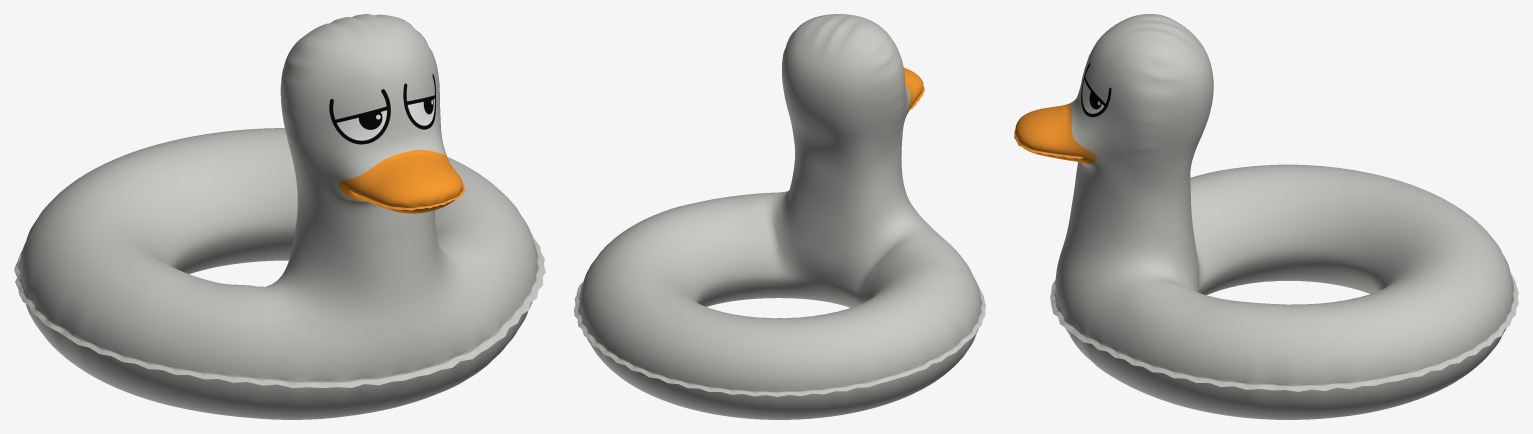
Rendered from GooseForWeb.gltf.
3 views of the same model, side by side, from view 1: azimuth 30°, elevation 25°; view 2: azimuth 150°, elevation 25°; view 3: azimuth 270°, elevation 25° (orthographic). The views are drawn at different scales.
Visible parts, largest first — view 1: Duck, Duck.001; view 2: Duck; view 3: Duck, Duck.001.
Boxes of the visible parts, box(x1,y1,x2,y2) form: Duck: box(14, 14, 545, 419); Duck.001: box(329, 74, 435, 144); Duck: box(574, 14, 985, 419); Duck: box(1014, 14, 1518, 419); Duck.001: box(1081, 55, 1111, 117).
Size of the model in its own units: 4.42 by 3.37 by 4.8.
Materials: 3 (1 with a texture image).
